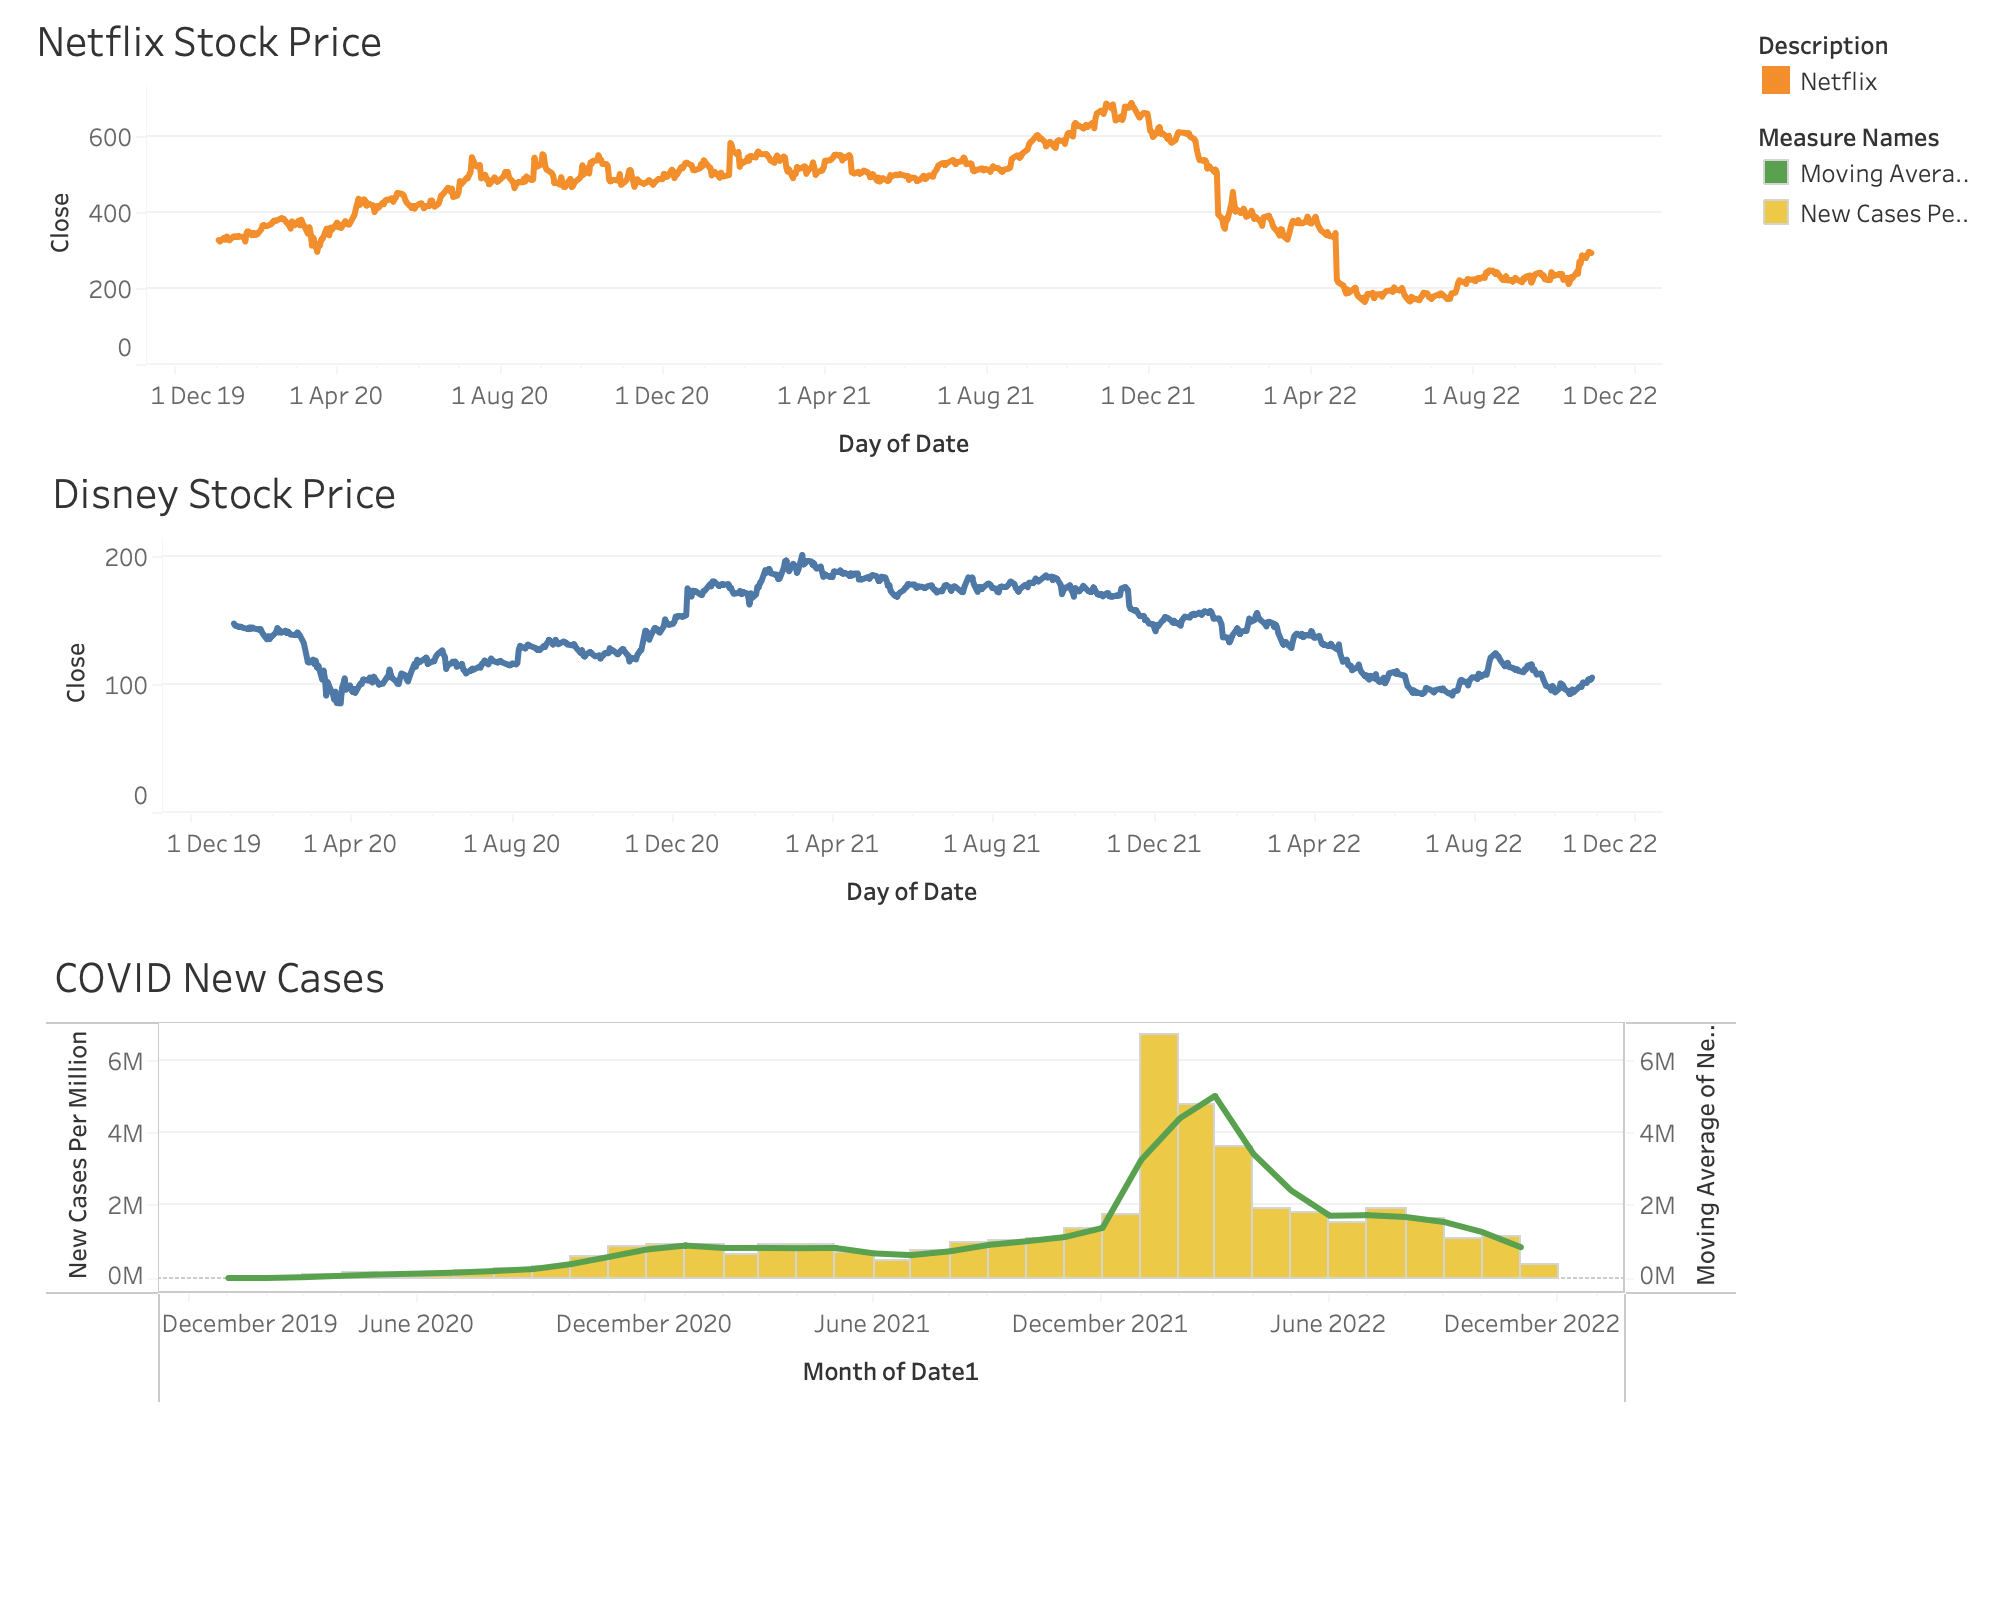

The dashboard page shown, as its layout file describes it:
{"tool":"tableau","page":{"name":"Entertainment2","canvas":[1000,800],"ordinal":3},"visuals":[{"type":"worksheet","title":"Netflix","mark":"Automatic","rows":["Close"],"cols":["Date"],"box":[14,0,817,237]},{"type":"legend","title":"Netflix","param":"[federated.1qz4ykp0zpzcal1b1m7p50a8alr5].[none:Description:nk]","box":[874,8,118,46]},{"type":"legend","title":"COVID New Cases","param":"[federated.1qz4ykp0zpzcal1b1m7p50a8alr5].[:Measure Names]","box":[874,54,118,66]},{"type":"worksheet","title":"Disney","mark":"Automatic","rows":["Close"],"cols":["Date"],"box":[22,226,809,235]},{"type":"worksheet","title":"COVID New Cases","mark":"Bar","rows":["new_cases_per_million","new_cases_per_million"],"cols":["date"],"box":[23,468,846,234]}]}

Visuals, with their boxes in screenshot pixels (x1, y1, x2, y2), scaled from the page's 1000x800 canvas onto the 2000x1600 screenshot:
"Netflix" worksheet: BBox(28, 0, 1662, 474)
"Netflix" legend: BBox(1748, 16, 1984, 108)
"COVID New Cases" legend: BBox(1748, 108, 1984, 240)
"Disney" worksheet: BBox(44, 452, 1662, 922)
"COVID New Cases" worksheet (Bar marks): BBox(46, 936, 1738, 1404)
